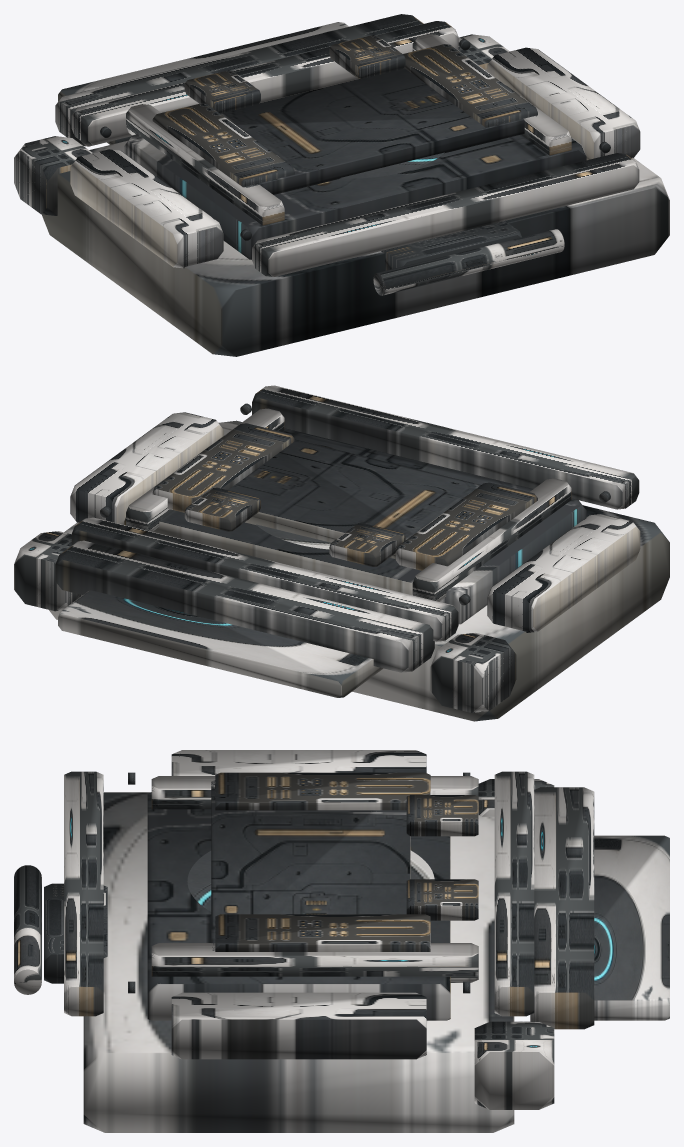
Rendered from room_l5_v3_cleaning_robot_dock.glb.
3 renders of one model, top to bottom at view 1: azimuth 30°, elevation 25°; view 2: azimuth 150°, elevation 25°; view 3: azimuth 270°, elevation 25°, orthographic. The views are drawn at different scales.
Parts seen in each view (by area): view 1: rounded_white_ceramic_dock_base, dark_lower_cradle_floor_shadow, black_rubber_bumper_0.54, recessed_graphite_robot_cradle, side_white_shell_cheek_-0.72, black_rubber_bumper_-0.54, side_white_shell_cheek_0.72, front_soft_entry_bumper_lip, brass_charging_contact_rail_-0.42, brass_charging_contact_rail_0.42, rear_black_power_cable_stub, inner_black_robot_guide_rail_-0.42 (+8 smaller); view 2: front_soft_entry_bumper_lip, dark_lower_cradle_floor_shadow, rounded_white_ceramic_dock_base, black_rubber_bumper_0.54, sloped_front_entry_ramp, recessed_graphite_robot_cradle, black_rubber_bumper_-0.54, side_white_shell_cheek_-0.72, side_white_shell_cheek_0.72, brass_charging_contact_rail_-0.42, front_corner_rubber_crash_pad_-0.72, brass_charging_contact_rail_0.42 (+6 smaller); view 3: rounded_white_ceramic_dock_base, dark_lower_cradle_floor_shadow, side_white_shell_cheek_0.72, recessed_graphite_robot_cradle, front_soft_entry_bumper_lip, sloped_front_entry_ramp, black_rubber_bumper_-0.54, black_rubber_bumper_0.54, inner_black_robot_guide_rail_0.42, brass_charging_contact_rail_0.42, brass_charging_contact_rail_-0.42, front_corner_rubber_crash_pad_0.72 (+8 smaller).
Part boxes in pixels (x1=…): rounded_white_ceramic_dock_base: x1=41, y1=69, x2=669, y2=356; dark_lower_cradle_floor_shadow: x1=220, y1=68, x2=537, y2=194; black_rubber_bumper_0.54: x1=252, y1=153, x2=639, y2=276; recessed_graphite_robot_cradle: x1=124, y1=134, x2=586, y2=259; side_white_shell_cheek_-0.72: x1=70, y1=149, x2=223, y2=268; black_rubber_bumper_-0.54: x1=71, y1=21, x2=458, y2=144; side_white_shell_cheek_0.72: x1=487, y1=47, x2=640, y2=160; front_soft_entry_bumper_lip: x1=55, y1=14, x2=423, y2=146; brass_charging_contact_rail_-0.42: x1=152, y1=103, x2=294, y2=186; brass_charging_contact_rail_0.42: x1=403, y1=44, x2=537, y2=127; rear_black_power_cable_stub: x1=373, y1=229, x2=564, y2=295; inner_black_robot_guide_rail_-0.42: x1=126, y1=104, x2=284, y2=225; front_soft_entry_bumper_lip: x1=55, y1=540, x2=434, y2=672; dark_lower_cradle_floor_shadow: x1=228, y1=439, x2=480, y2=558; rounded_white_ceramic_dock_base: x1=49, y1=420, x2=669, y2=721; black_rubber_bumper_0.54: x1=252, y1=385, x2=639, y2=509; sloped_front_entry_ramp: x1=58, y1=590, x2=383, y2=697; recessed_graphite_robot_cradle: x1=124, y1=428, x2=586, y2=624; black_rubber_bumper_-0.54: x1=71, y1=517, x2=458, y2=641; side_white_shell_cheek_-0.72: x1=487, y1=514, x2=640, y2=632; side_white_shell_cheek_0.72: x1=70, y1=412, x2=223, y2=524; brass_charging_contact_rail_-0.42: x1=395, y1=482, x2=537, y2=570; front_corner_rubber_crash_pad_-0.72: x1=430, y1=633, x2=516, y2=712; brass_charging_contact_rail_0.42: x1=152, y1=423, x2=294, y2=512; rounded_white_ceramic_dock_base: x1=83, y1=792, x2=514, y2=1132; dark_lower_cradle_floor_shadow: x1=211, y1=780, x2=410, y2=950; side_white_shell_cheek_0.72: x1=171, y1=992, x2=426, y2=1059; recessed_graphite_robot_cradle: x1=147, y1=792, x2=450, y2=1020; front_soft_entry_bumper_lip: x1=530, y1=787, x2=594, y2=1029; sloped_front_entry_ramp: x1=594, y1=835, x2=669, y2=1020; black_rubber_bumper_-0.54: x1=494, y1=771, x2=534, y2=1016; black_rubber_bumper_0.54: x1=64, y1=771, x2=103, y2=1016; inner_black_robot_guide_rail_0.42: x1=151, y1=943, x2=478, y2=982; brass_charging_contact_rail_0.42: x1=215, y1=914, x2=430, y2=951; brass_charging_contact_rail_-0.42: x1=215, y1=772, x2=430, y2=810; front_corner_rubber_crash_pad_0.72: x1=474, y1=1021, x2=554, y2=1109.
Size of the model in its own units: 1.62 by 0.445 by 1.64.
12 materials, 12 textured.
